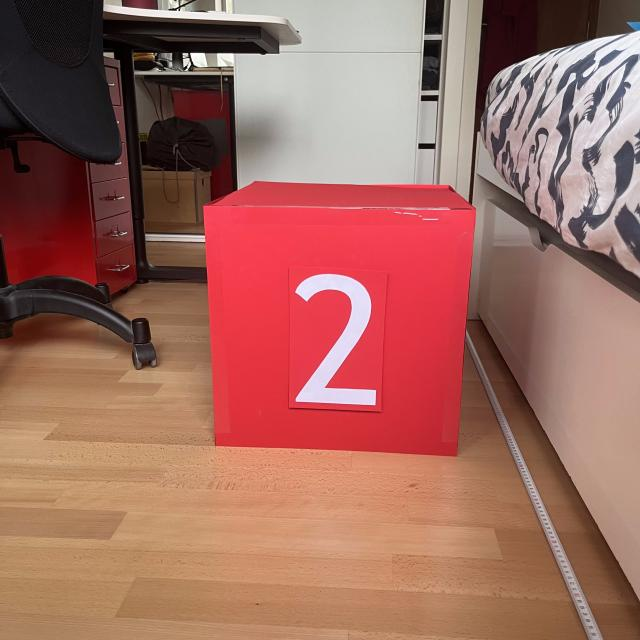box: (198, 175, 479, 460)
